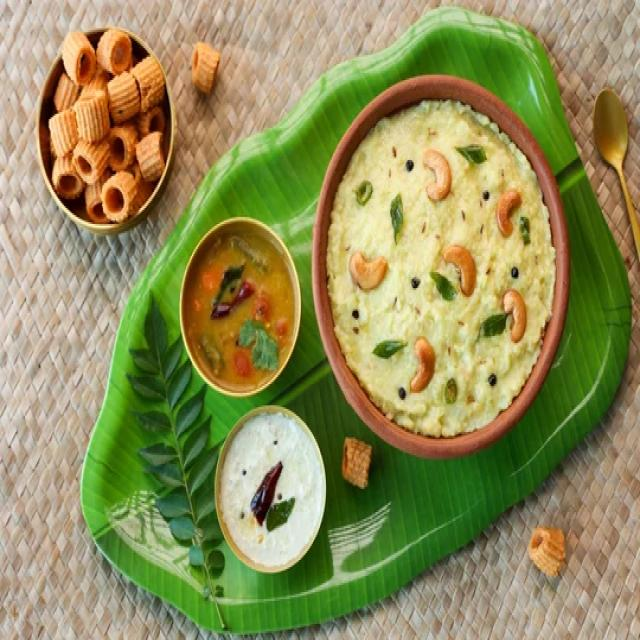PAPADAM: (48, 27, 170, 222)
PONGAL: (327, 99, 556, 439)
SAMBAR: (182, 232, 296, 393)
WHITE CHUTNEY: (216, 412, 325, 568)
